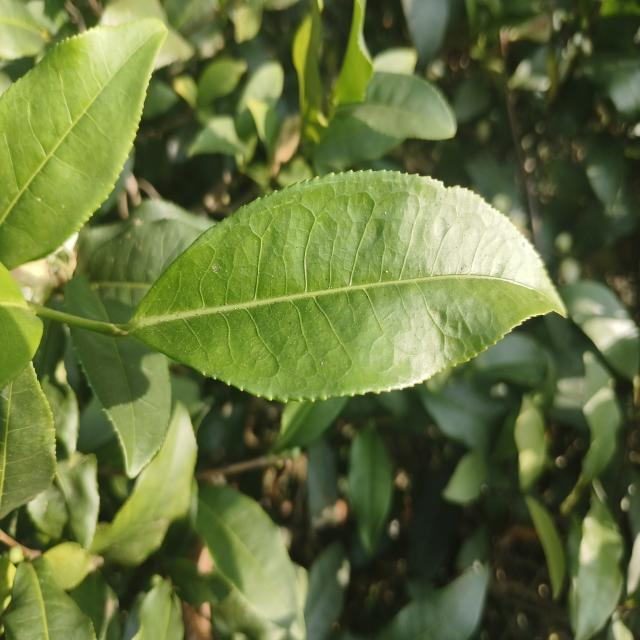Leaf: (129, 171, 564, 400), (0, 19, 167, 270), (90, 402, 197, 565), (70, 325, 171, 477), (196, 486, 303, 627), (90, 219, 201, 309), (0, 363, 56, 519), (374, 565, 489, 640), (561, 281, 640, 381), (570, 495, 624, 640), (347, 72, 457, 140), (4, 562, 95, 640), (33, 319, 79, 461), (100, 0, 194, 69), (420, 381, 502, 450), (348, 427, 392, 555), (0, 263, 43, 390), (313, 114, 405, 171), (582, 351, 622, 482), (304, 542, 350, 640), (332, 0, 373, 104), (272, 396, 349, 451), (469, 331, 546, 386), (525, 496, 565, 599), (235, 60, 284, 139), (132, 575, 184, 640), (401, 0, 450, 63), (514, 395, 546, 491), (0, 0, 44, 59), (37, 542, 91, 590), (307, 437, 337, 518), (442, 451, 487, 504), (586, 143, 622, 209), (198, 58, 247, 106), (65, 275, 107, 322)
